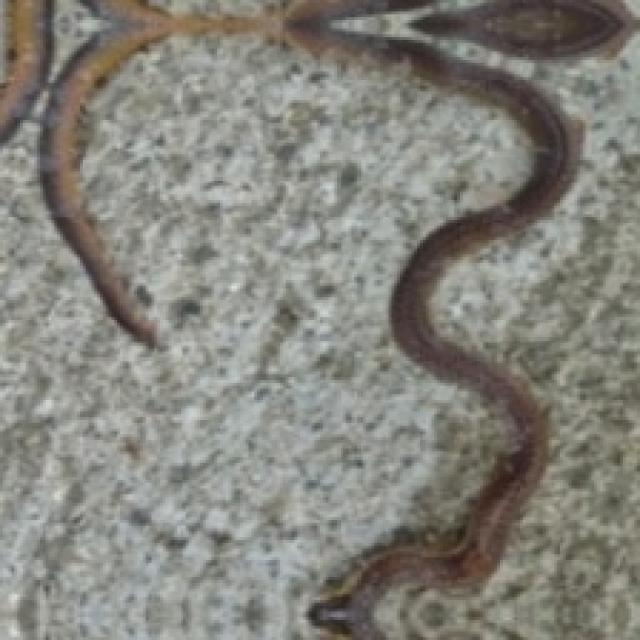gervais worm snake: (40, 0, 581, 640), (2, 0, 49, 141)
